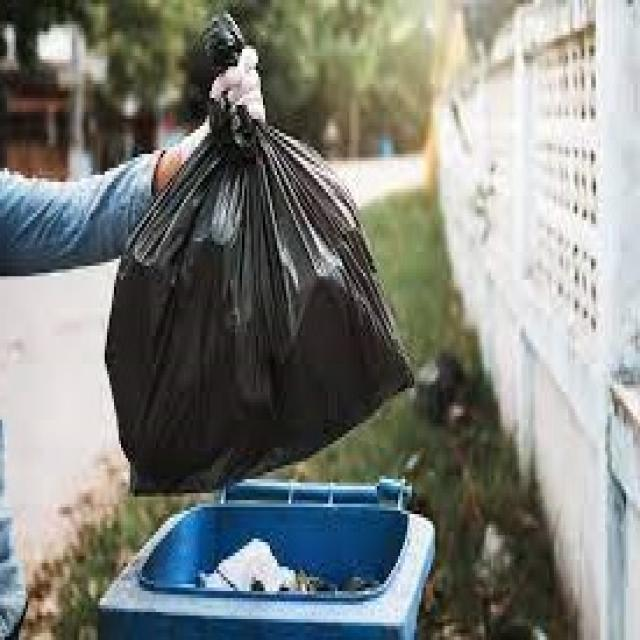Vinyl: (101, 3, 417, 503), (178, 536, 316, 594)
